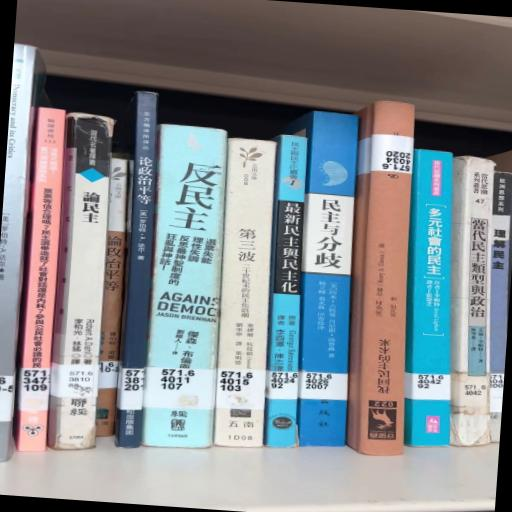reverse: (348, 102, 415, 456)
